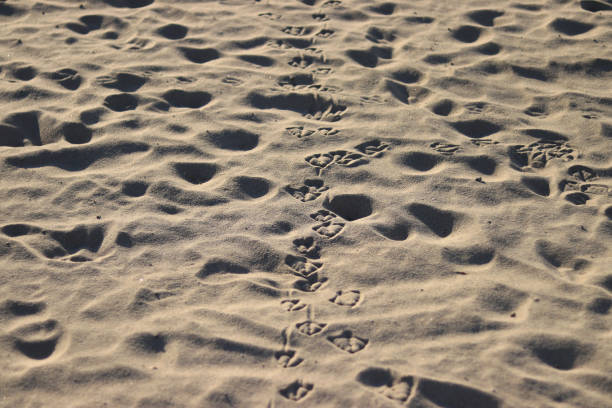animal_foot_print: (356, 367, 500, 407), (357, 367, 415, 402), (12, 319, 62, 359), (559, 165, 608, 203), (509, 141, 575, 169), (305, 150, 368, 174), (274, 327, 302, 367), (310, 209, 344, 238), (285, 179, 328, 201), (327, 330, 368, 353), (285, 255, 322, 277), (279, 380, 313, 401), (285, 126, 339, 138), (293, 273, 327, 291), (305, 153, 334, 174), (330, 150, 368, 166), (355, 139, 389, 156), (293, 236, 319, 258), (312, 221, 344, 238), (329, 290, 361, 307), (274, 349, 302, 367), (296, 320, 326, 335), (568, 165, 596, 181), (430, 142, 461, 154), (288, 55, 316, 68), (285, 126, 314, 138), (310, 209, 336, 221), (281, 299, 307, 311), (281, 26, 311, 35), (464, 102, 486, 113), (360, 95, 384, 103), (222, 76, 243, 85), (471, 139, 498, 146), (316, 127, 339, 135), (258, 12, 281, 20), (316, 28, 334, 37), (311, 67, 333, 74), (321, 0, 341, 7), (311, 13, 328, 21)
